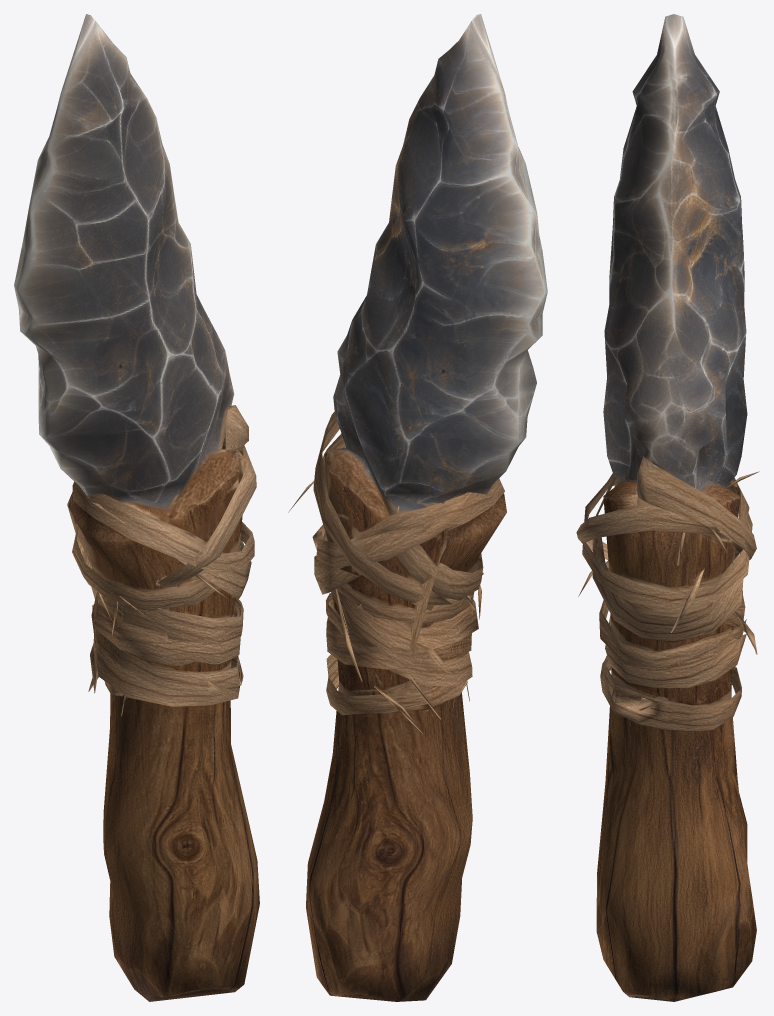
Rendered from speer_stein_original.glb.
3 renders of one model, left to right at view 1: azimuth 30°, elevation 25°; view 2: azimuth 150°, elevation 25°; view 3: azimuth 270°, elevation 25°, orthographic. The views are drawn at different scales.
Size of the model in its own units: 0.2285 by 0.9521 by 0.1689.
Materials: 1 (1 with a texture image).
